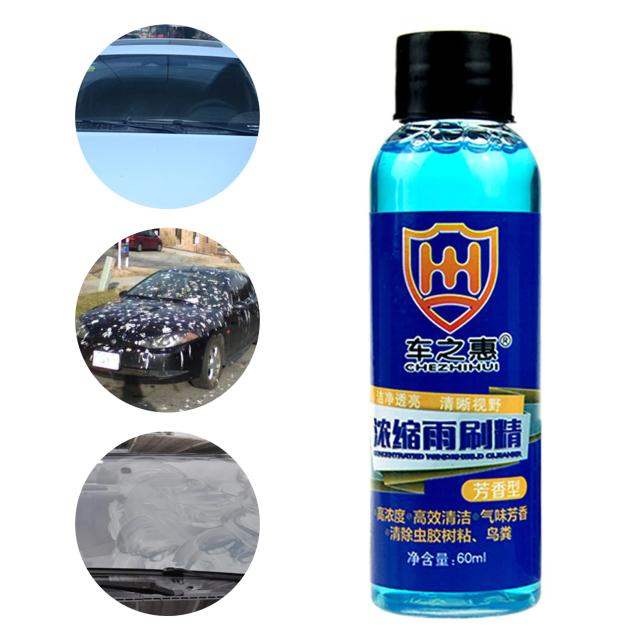winwinshield_washer: (365, 26, 544, 620)
